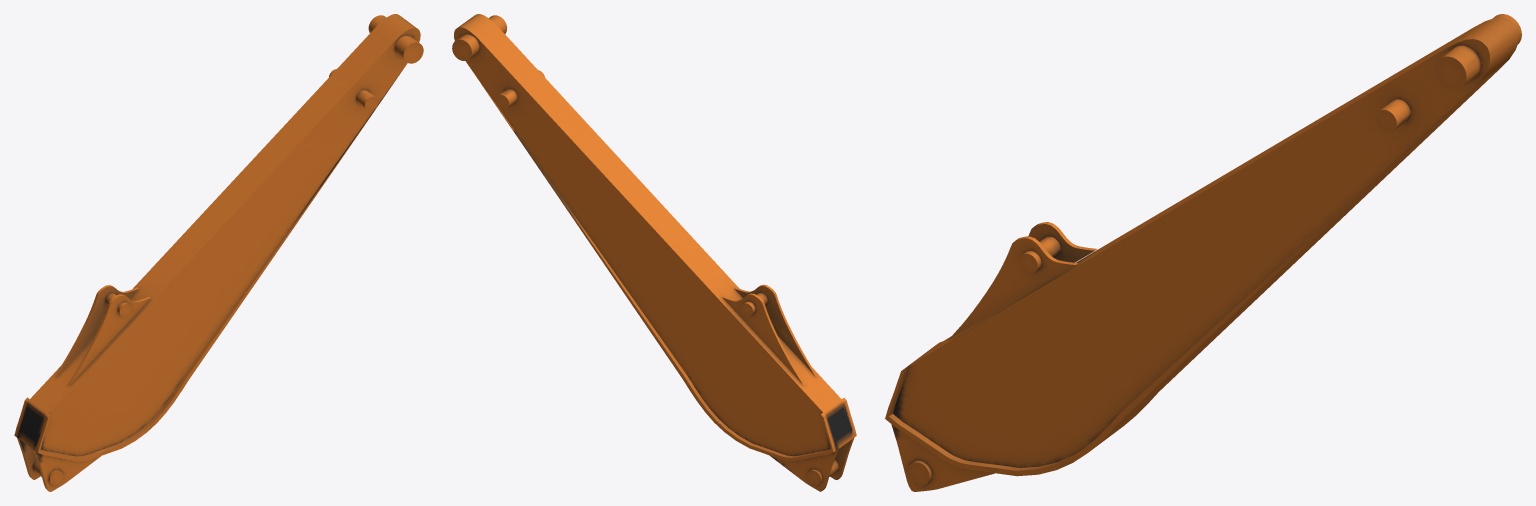
The model's file is zx200-arm.dae.
3 views of the same model, side by side, from view 1: azimuth 30°, elevation 25°; view 2: azimuth 150°, elevation 25°; view 3: azimuth 330°, elevation 25° (orthographic). The views are drawn at different scales.
Visible parts, largest first — view 1: arm.004; view 2: arm.004; view 3: arm.004.
Boxes of the visible parts, x1=… form: arm.004: x1=14, y1=14, x2=423, y2=491; arm.004: x1=452, y1=14, x2=856, y2=491; arm.004: x1=885, y1=14, x2=1521, y2=491.
Bounding box in the file's own units: 2.95 × 0.4876 × 2.77.
1 material, 1 textured.
